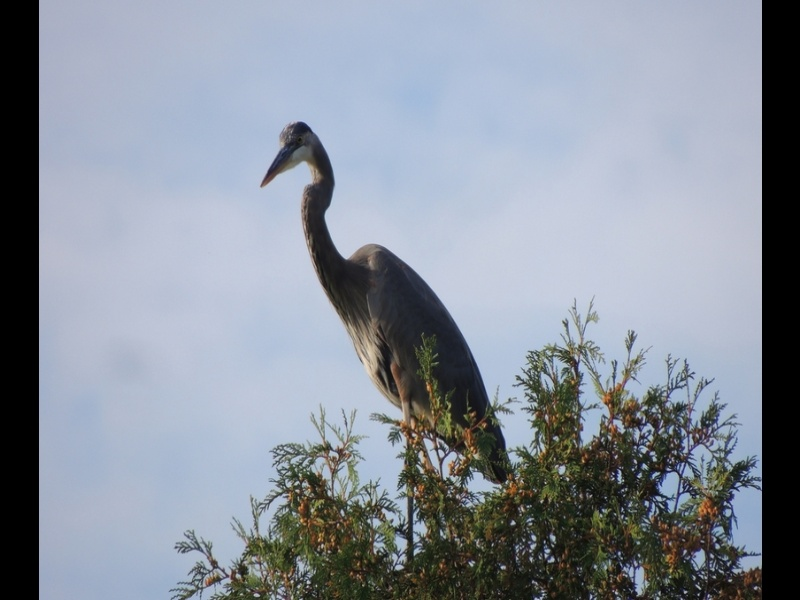heron: (253, 117, 533, 551)
